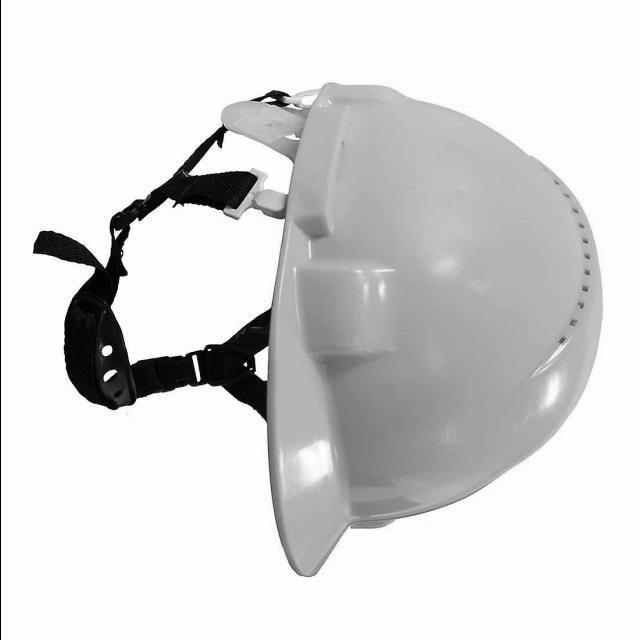safety_helmet: (262, 81, 601, 579)
